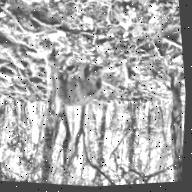boar: (50, 59, 107, 113)
